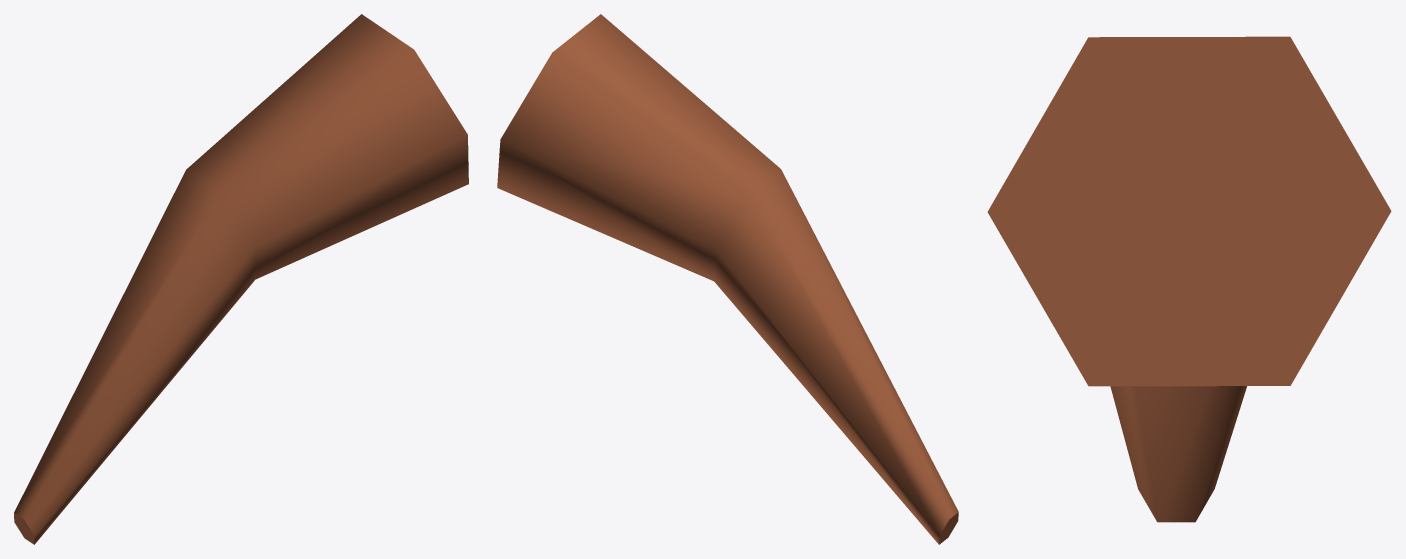
Rendered from cozy_lake_treeroot_01.glb.
3 views of the same model, side by side, from view 1: azimuth 30°, elevation 25°; view 2: azimuth 150°, elevation 25°; view 3: azimuth 270°, elevation 25° (orthographic). The views are drawn at different scales.
Visible parts, largest first — view 1: TreeRoot_01_Wood_0; view 2: TreeRoot_01_Wood_0; view 3: TreeRoot_01_Wood_0.
Boxes of the visible parts, bbox=[...] form: TreeRoot_01_Wood_0: bbox=[14, 14, 468, 544]; TreeRoot_01_Wood_0: bbox=[497, 14, 958, 544]; TreeRoot_01_Wood_0: bbox=[987, 36, 1391, 522].
Size of the model in its own units: 13.31 by 12.46 by 5.44.
